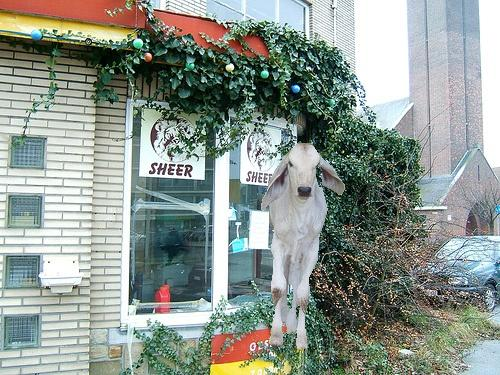tampered: (262, 144, 345, 349)
